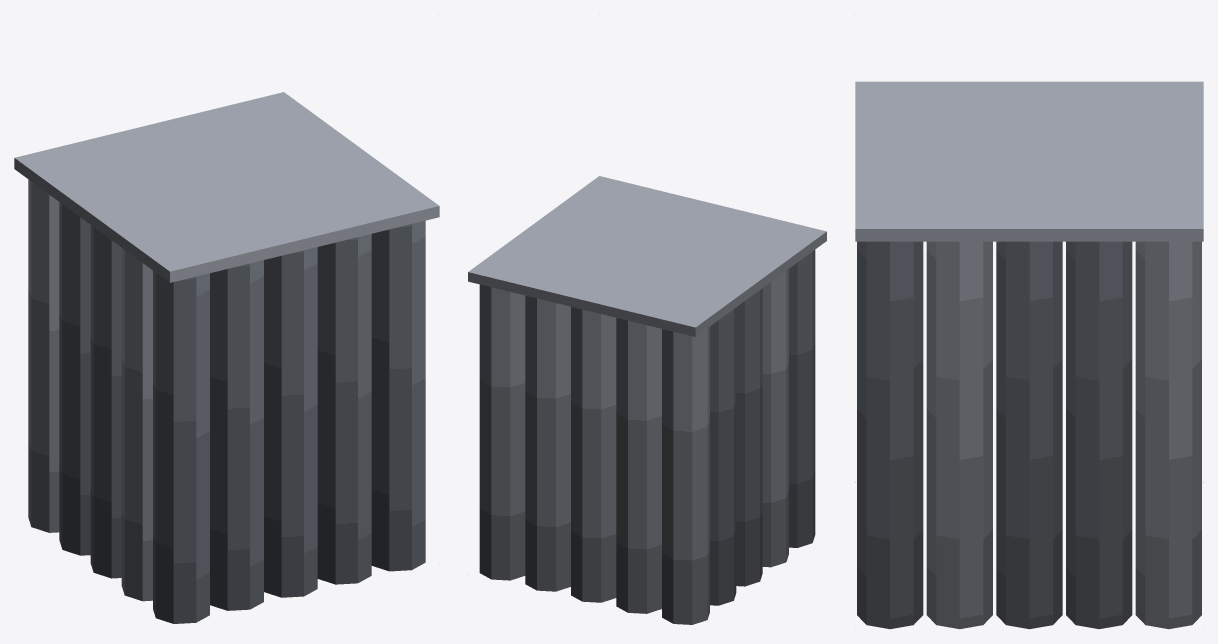
File: perimeter_wall_metal_f15.glb
3 views of the same model, side by side, from view 1: azimuth 30°, elevation 25°; view 2: azimuth 150°, elevation 25°; view 3: azimuth 270°, elevation 25° (orthographic). The views are drawn at different scales.
Bounding box in the file's own units: 2 × 3.9 × 2.
Materials: 1 (1 with a texture image).
